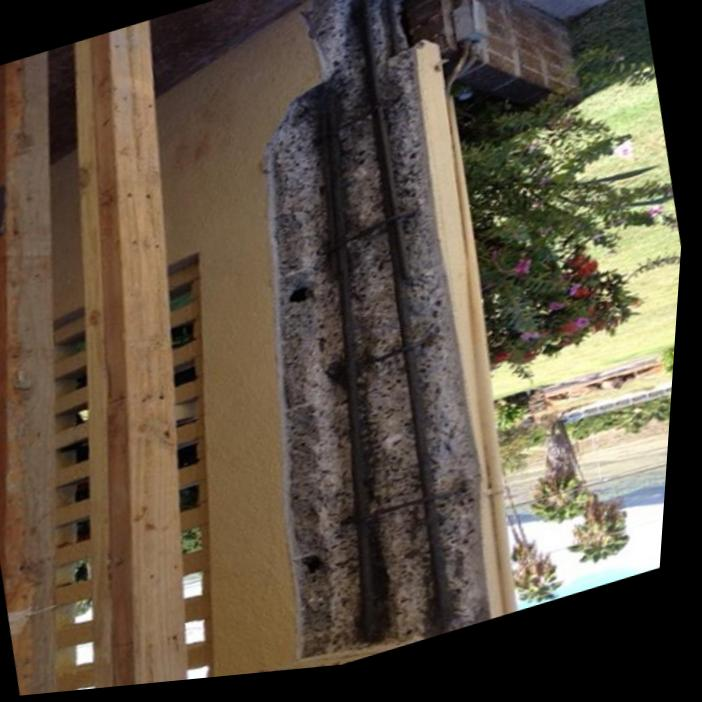damage: (266, 0, 507, 668)
